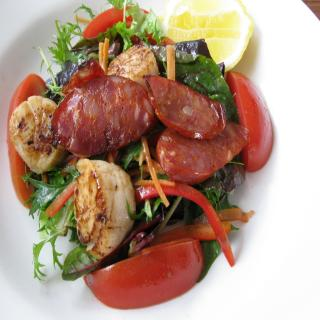tomato: (80, 242, 206, 311), (134, 183, 236, 268), (209, 69, 275, 181), (4, 72, 48, 207), (83, 3, 175, 46)
